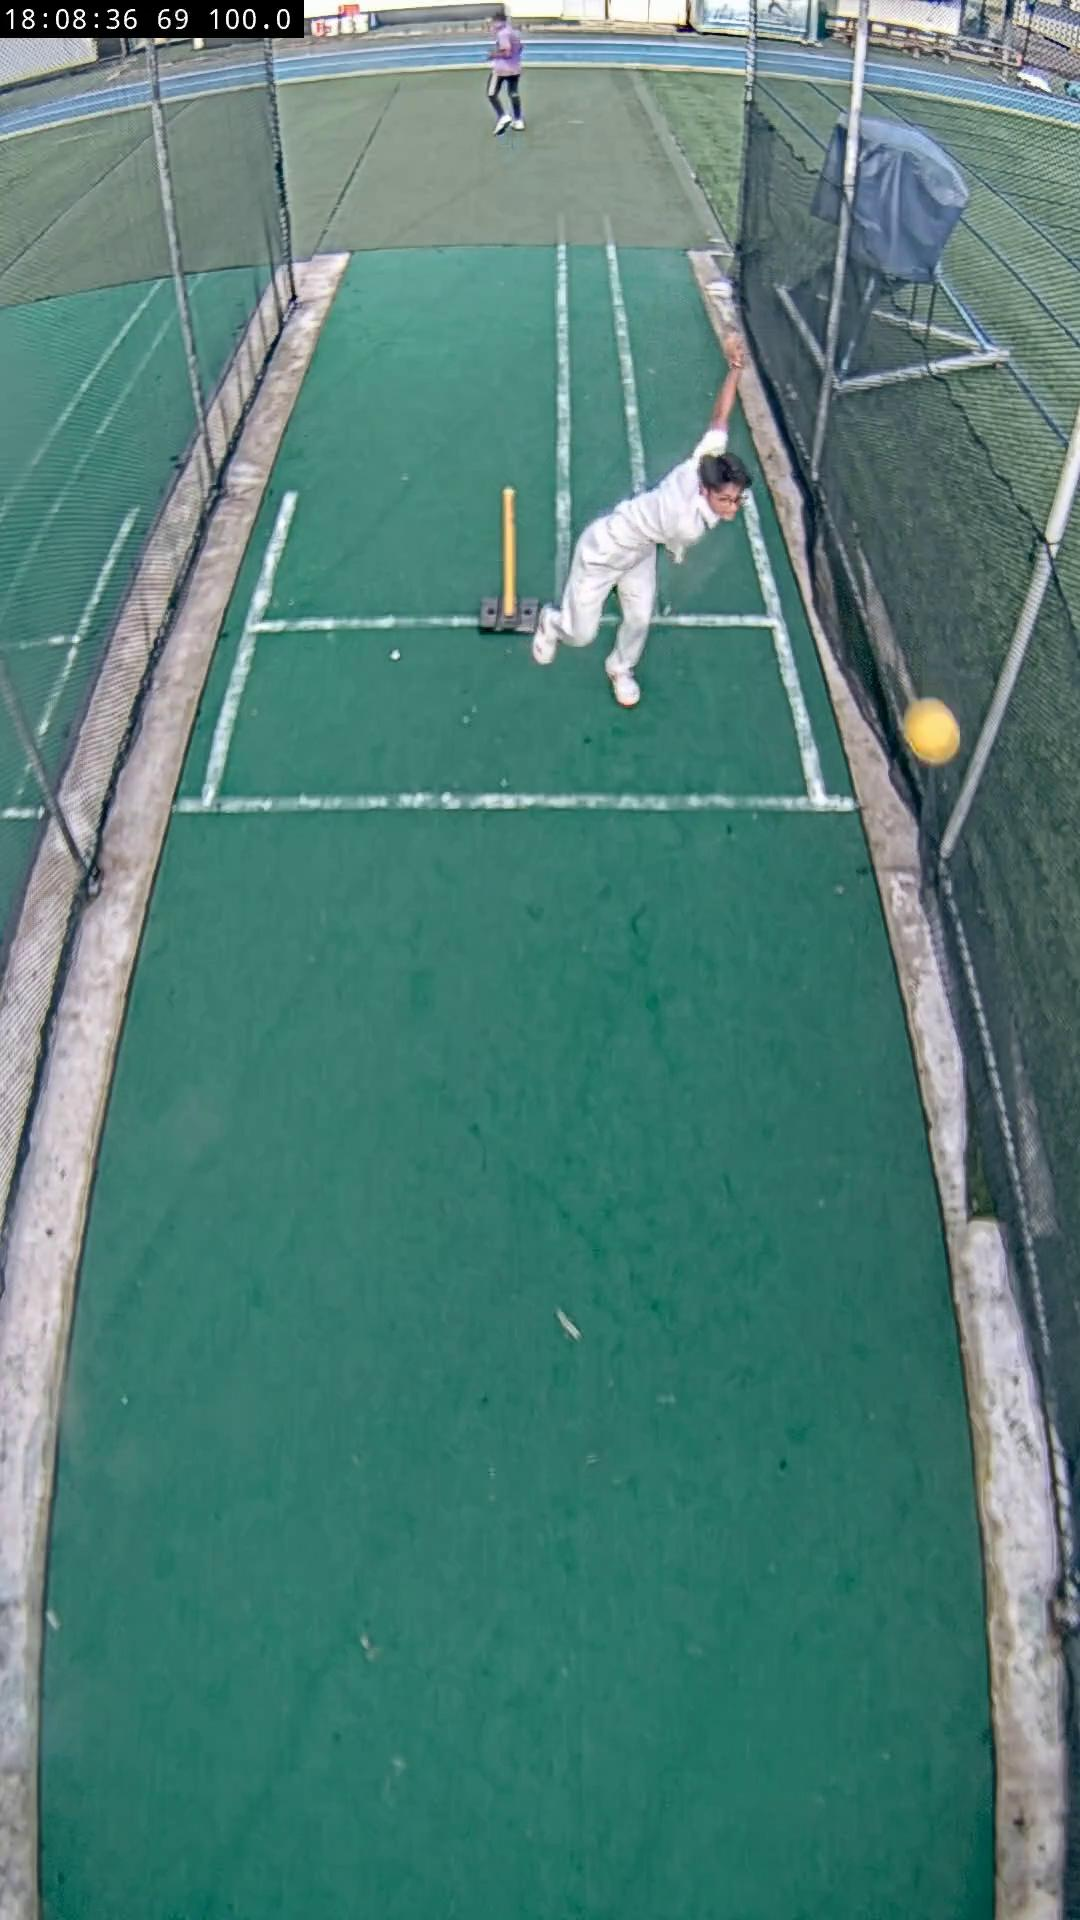ball: (899, 698, 960, 765)
stumps: (476, 488, 541, 634)
